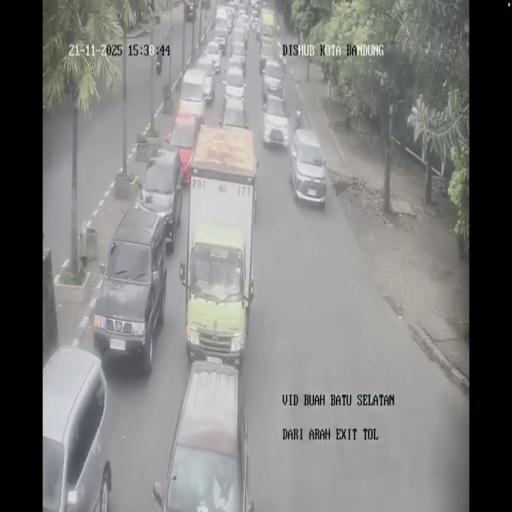car: (152, 358, 252, 510), (94, 205, 170, 370), (41, 345, 111, 510), (289, 128, 327, 208), (163, 113, 200, 187), (261, 92, 292, 148), (261, 57, 286, 102), (196, 53, 218, 96), (224, 61, 246, 102), (214, 10, 229, 50), (231, 28, 247, 64), (225, 5, 235, 29), (185, 1, 196, 21), (251, 0, 261, 14)
truck: (184, 125, 257, 349), (260, 7, 276, 47)
